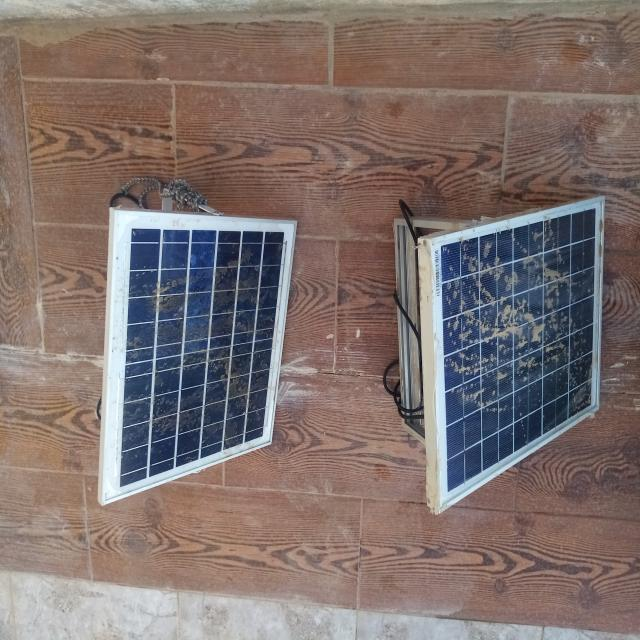faulty: (103, 212, 297, 504), (431, 197, 604, 512)
